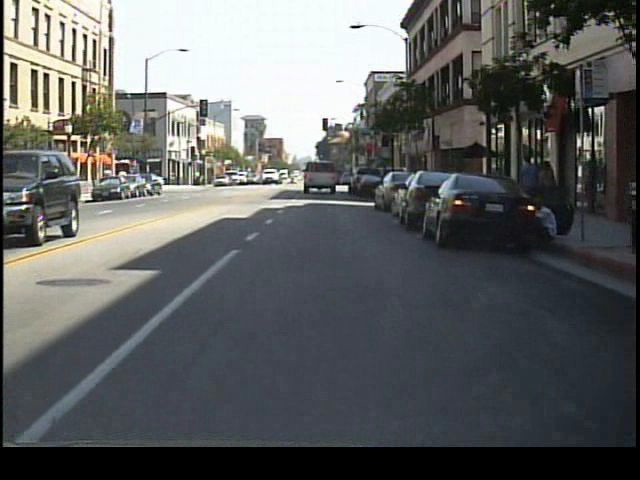person: (515, 150, 540, 223), (534, 157, 558, 220)
